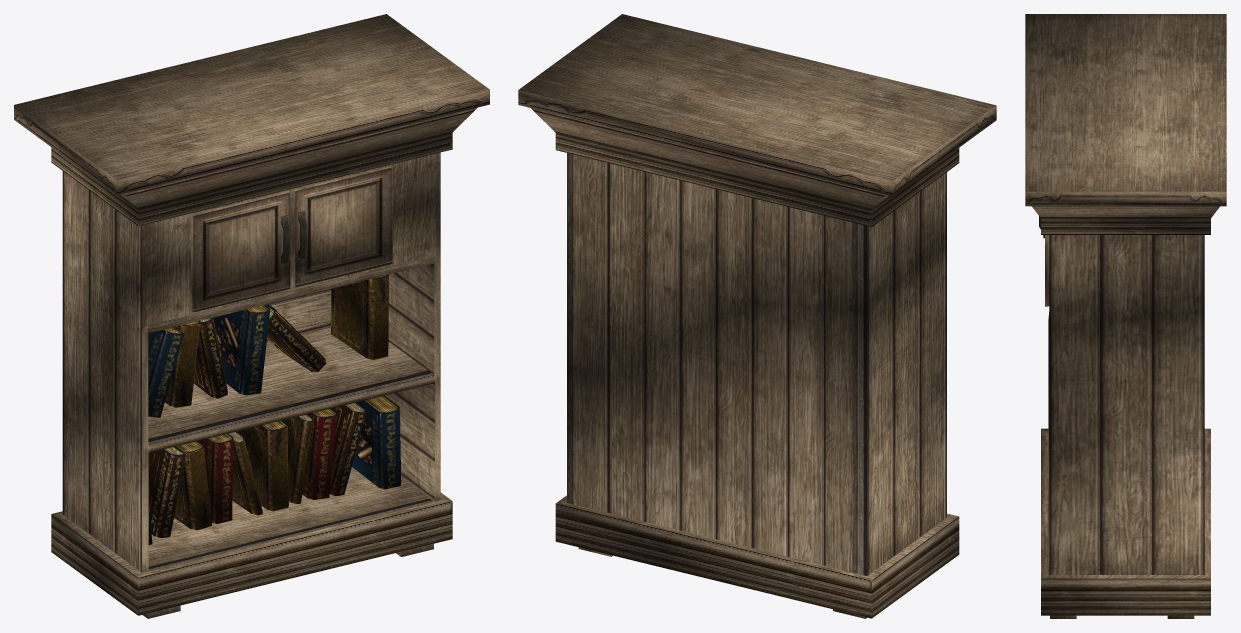
File: GS_VOB_BOOKCASE_YELLOW_02_KOZA.glb
3 renders of one model, left to right at view 1: azimuth 30°, elevation 25°; view 2: azimuth 150°, elevation 25°; view 3: azimuth 270°, elevation 25°, orthographic. The views are drawn at different scales.
Parts seen in each view (by area): view 1: Mesh; view 2: Mesh; view 3: Mesh.
Boxes of the visible parts, x1=… form: Mesh: x1=14, y1=14, x2=489, y2=618; Mesh: x1=518, y1=14, x2=996, y2=618; Mesh: x1=1025, y1=14, x2=1226, y2=618.
Bounding box in the file's own units: 1.41 × 1.66 × 0.6779.
Materials: 4 (4 with a texture image).
